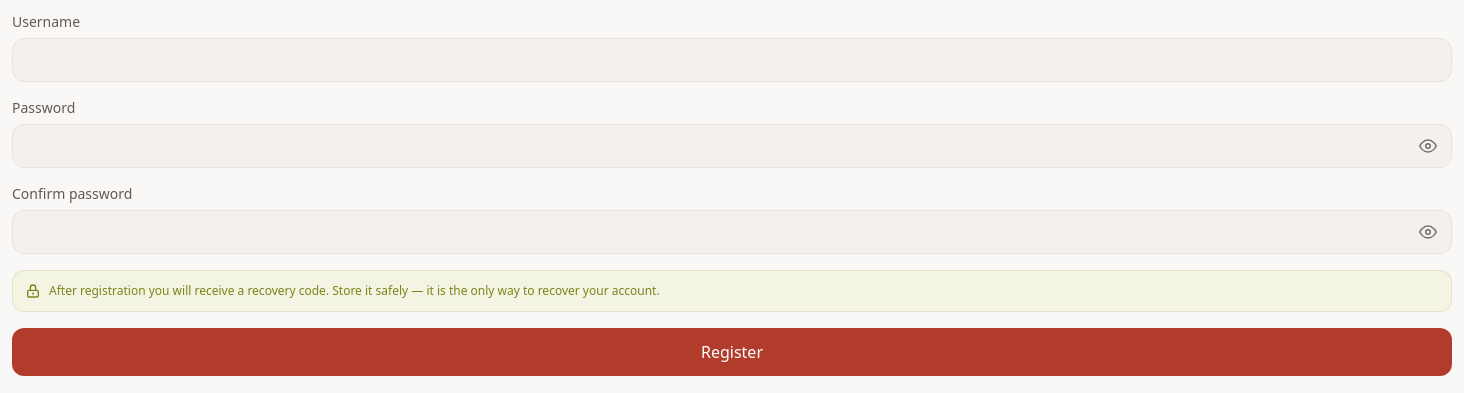
Test case: SignupFlow — recovery-gate screen › displays the recovery code after successful register+login
The width and height of the screenshot is (1464, 393).
Type "alice" into the field with id "signup-user" at (732, 60), box [12, 38, 1452, 82]
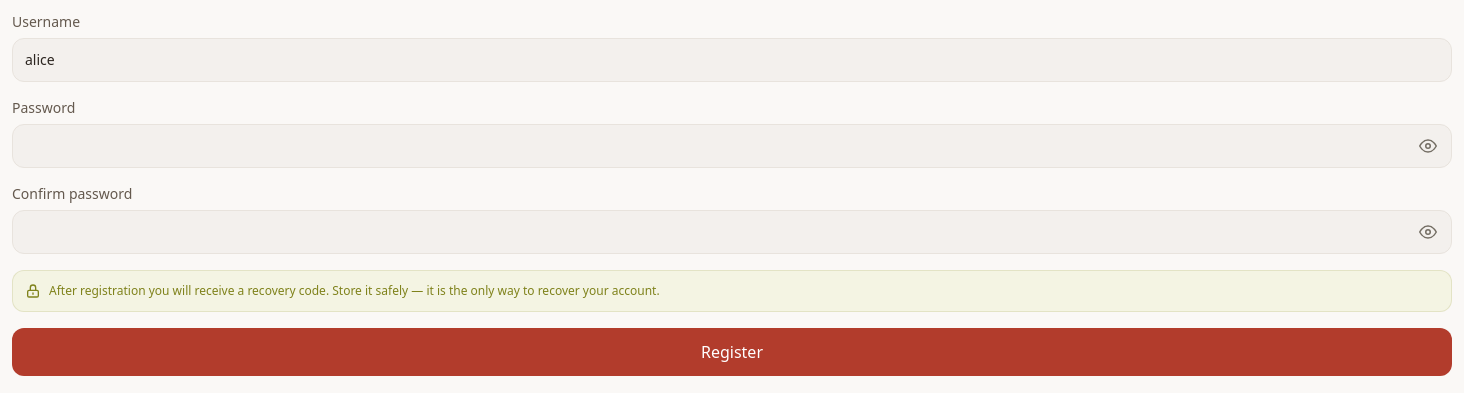
Type "longenoughpw12" into the password field with id "signup-pass" at (732, 146), box [12, 124, 1452, 168]
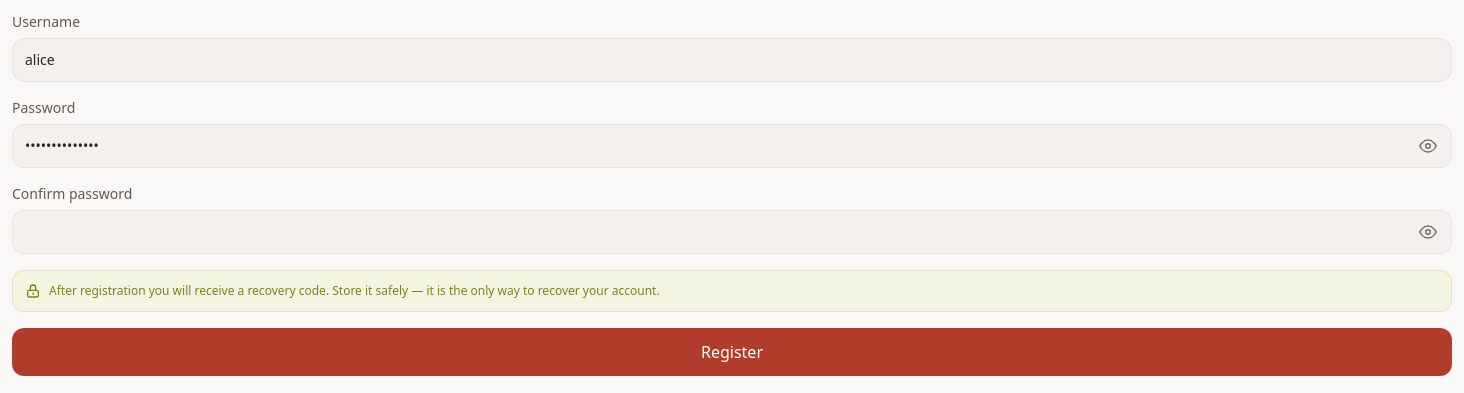
Type "longenoughpw12" into the password field with id "signup-pass2" at (732, 232), box [12, 210, 1452, 254]
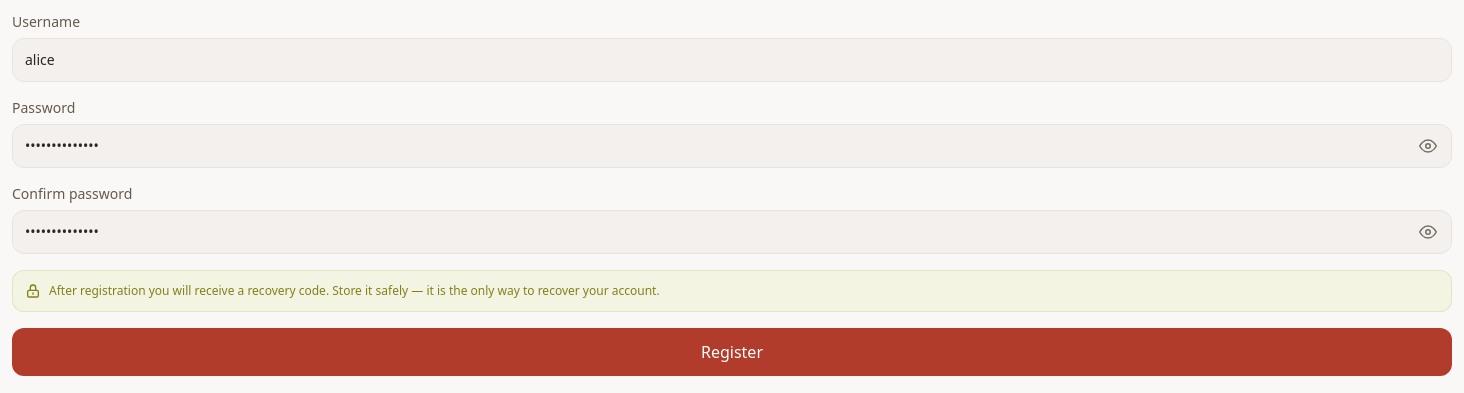
Click the submit button at (732, 352), box [12, 328, 1452, 376]
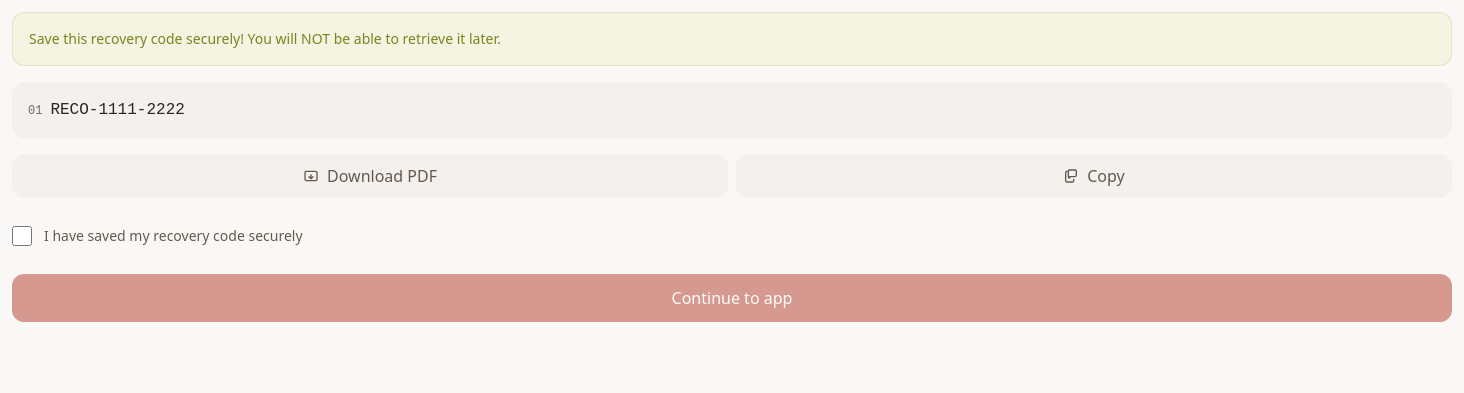
expect the text "RECO-1111-2222" is shown: met, box [50, 98, 185, 122]
